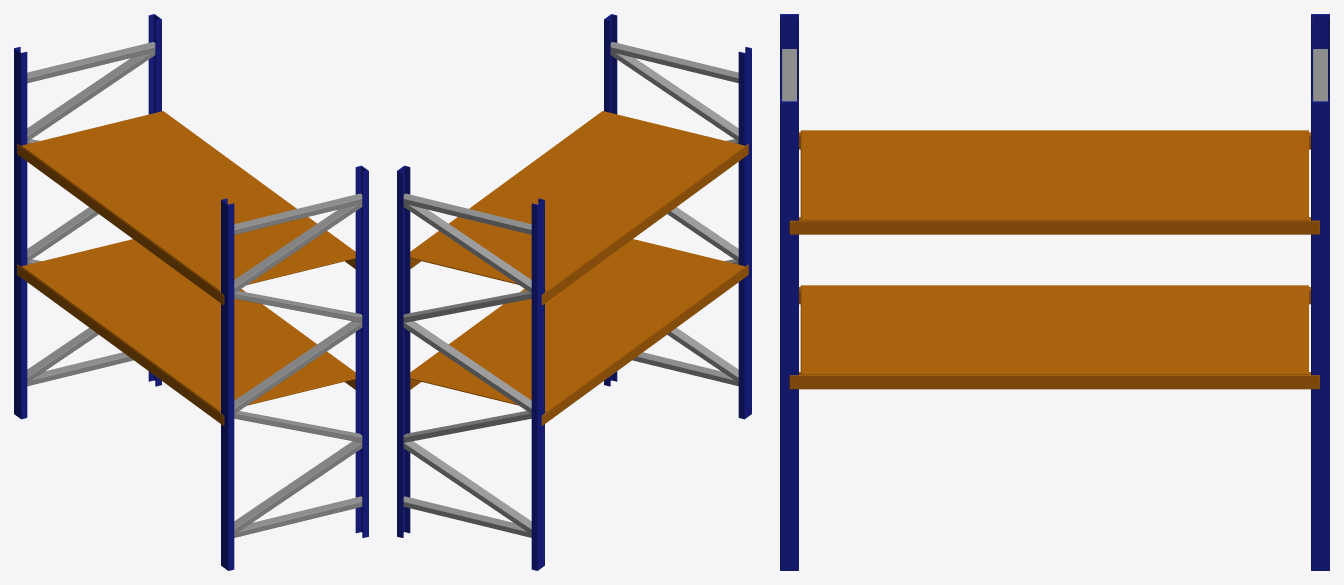
The model's file is SM_Build_Schwerlastregal_mit_Boeden.fbx.
3 views of the same model, side by side, from view 1: azimuth 30°, elevation 25°; view 2: azimuth 150°, elevation 25°; view 3: azimuth 270°, elevation 25° (orthographic). The views are drawn at different scales.
Visible parts, largest first — view 1: Schwerlastregal mit Böden; view 2: Schwerlastregal mit Böden; view 3: Schwerlastregal mit Böden.
Part boxes in pixels (x1,y1,x2,y2): Schwerlastregal mit Böden: (14, 14, 368, 570); Schwerlastregal mit Böden: (397, 14, 751, 570); Schwerlastregal mit Böden: (780, 14, 1329, 570).
Bounding box in the file's own units: 1.11 × 2.73 × 2.9.
